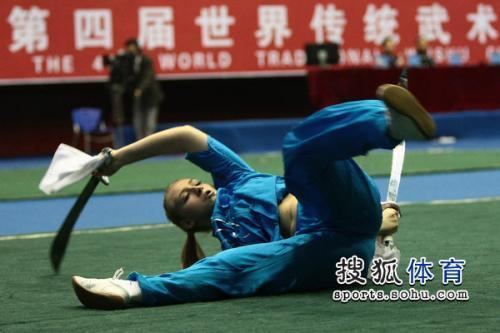Fall-Detected: (56, 83, 430, 315)
